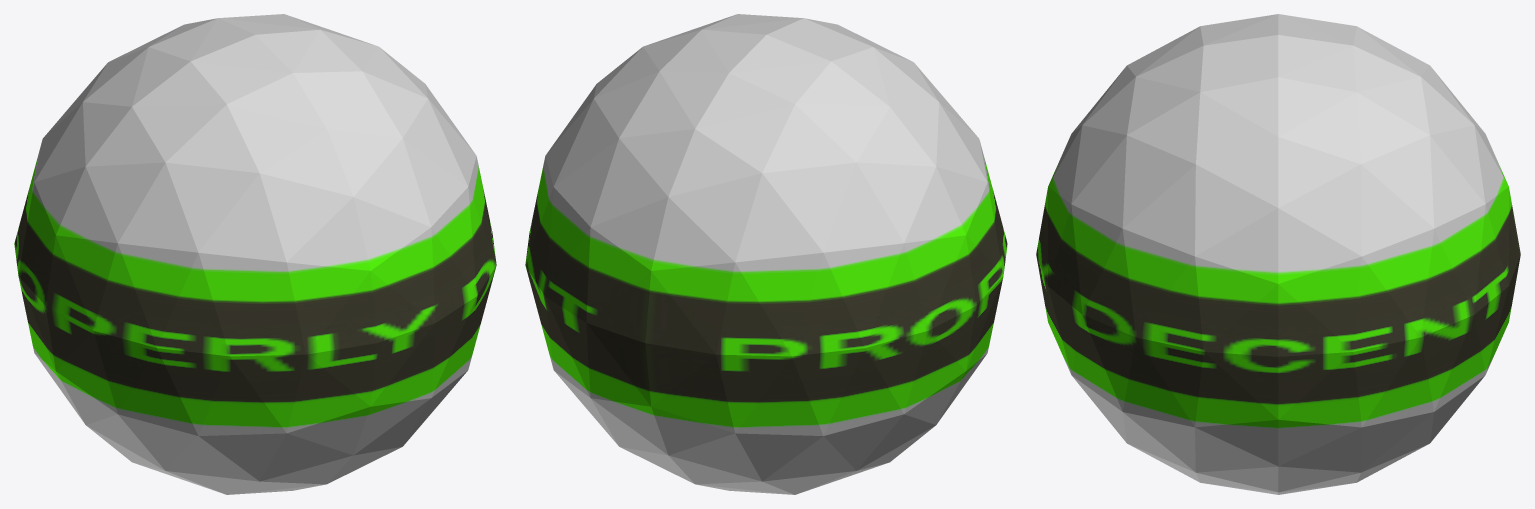
Rendered from generic.glb.
3 renders of one model, left to right at view 1: azimuth 30°, elevation 25°; view 2: azimuth 150°, elevation 25°; view 3: azimuth 270°, elevation 25°, orthographic.
Parts seen in each view (by area): view 1: generic ball; view 2: generic ball; view 3: generic ball.
Part boxes in pixels (<box>): generic ball: <box>14,14,496,494</box>; generic ball: <box>525,14,1007,494</box>; generic ball: <box>1036,14,1520,494</box>.
Size of the model in its own units: 0.22 by 0.22 by 0.22.
1 material, 1 textured.
